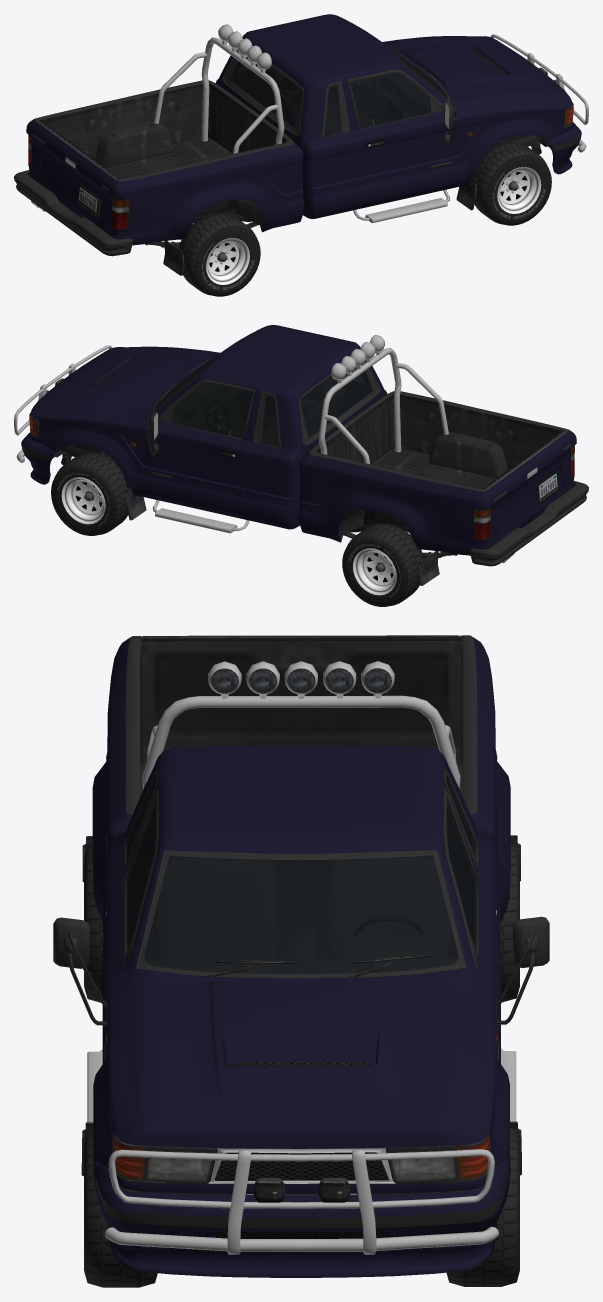
The model's file is lifted85.glb.
3 renders of one model, top to bottom at view 1: azimuth 30°, elevation 25°; view 2: azimuth 150°, elevation 25°; view 3: azimuth 270°, elevation 25°, orthographic. The views are drawn at different scales.
Visible parts, largest first — view 1: krmlgtbdy85_Body_krmlgtbdy85_Bodymat_0, krmlgtbdy85_Bottom_UCB_BOTTOM_0, krmlgtbdy85_Hood_krmlgtbdy85_Bodymat_0, krmlgtbdy85_Interior_UCB_Interiors_1_0, krmlgtbdy85_WheelStock_RR_RO1a_Tire_0, krmlgtbdy85_WheelStock_FR_RO1a_Tire_0, krmlgtbdy85_Trunkdoor_krmlgtbdy85_Bodymat_0, krmlgtbdy85_Extra_A_UCB_BOTTOM_0, krmlgtbdy85_Glass_Passanger_UCB_Lights_and_Glass_Transperent, krmlgtbdy85_Bumper_Rear_UCB_BOTTOM_0, krmlgtbdy85_Lifted_Trim_UCB_BOTTOM_0, krmlgtbdy85_Glass_Rear_UCB_Lights_and_Glass_Transperent_0 (+6 smaller); view 2: krmlgtbdy85_Body_krmlgtbdy85_Bodymat_0, krmlgtbdy85_Bottom_UCB_BOTTOM_0, krmlgtbdy85_Hood_krmlgtbdy85_Bodymat_0, krmlgtbdy85_Interior_UCB_Interiors_1_0, krmlgtbdy85_WheelStock_RL_RO1a_Tire_0, krmlgtbdy85_WheelStock_FL_RO1a_Tire_0, krmlgtbdy85_Trunkdoor_krmlgtbdy85_Bodymat_0, krmlgtbdy85_Extra_A_UCB_BOTTOM_0, krmlgtbdy85_Glass_Driver_UCB_Lights_and_Glass_Transperent_0, krmlgtbdy85_Bumper_Rear_UCB_BOTTOM_0, krmlgtbdy85_Lifted_Trim_UCB_BOTTOM_0, krmlgtbdy85_Glass_Rear_UCB_Lights_and_Glass_Transperent_0 (+6 smaller); view 3: krmlgtbdy85_Body_krmlgtbdy85_Bodymat_0, krmlgtbdy85_Hood_krmlgtbdy85_Bodymat_0, krmlgtbdy85_Interior_UCB_Interiors_1_0, krmlgtbdy85_Windshield_UCB_Lights_and_Glass_Transperent_0, krmlgtbdy85_Trunk_door_inner_UCB_BOTTOM_0, krmlgtbdy85_Bottom_UCB_BOTTOM_0, krmlgtbdy85_Bumper_Front_krmlgtbdy85_Bodymat_0, krmlgtbdy85_Bullbar_UCB_BOTTOM_0, krmlgtbdy85_Extra_A_UCB_BOTTOM_0, krmlgtbdy85_Lifted_Trim_UCB_BOTTOM_0, krmlgtbdy85_Bumper_front_inner_UCB_BOTTOM_0, krmlgtbdy85_Headlights_Glass_UCB_Lights_and_Glass_Transperen (+8 smaller).
Part boxes in pixels (<box>): krmlgtbdy85_Body_krmlgtbdy85_Bodymat_0: <box>26,14,573,245</box>; krmlgtbdy85_Bottom_UCB_BOTTOM_0: <box>28,42,573,230</box>; krmlgtbdy85_Hood_krmlgtbdy85_Bodymat_0: <box>386,38,563,97</box>; krmlgtbdy85_Interior_UCB_Interiors_1_0: <box>231,57,446,135</box>; krmlgtbdy85_WheelStock_RR_RO1a_Tire_0: <box>178,213,260,296</box>; krmlgtbdy85_WheelStock_FR_RO1a_Tire_0: <box>474,142,551,225</box>; krmlgtbdy85_Trunkdoor_krmlgtbdy85_Bodymat_0: <box>30,121,115,233</box>; krmlgtbdy85_Extra_A_UCB_BOTTOM_0: <box>154,24,284,153</box>; krmlgtbdy85_Glass_Passanger_UCB_Lights_and_Glass_Transperent: <box>350,73,430,128</box>; krmlgtbdy85_Bumper_Rear_UCB_BOTTOM_0: <box>14,170,133,256</box>; krmlgtbdy85_Lifted_Trim_UCB_BOTTOM_0: <box>163,101,476,275</box>; krmlgtbdy85_Glass_Rear_UCB_Lights_and_Glass_Transperent_0: <box>230,57,301,127</box>; krmlgtbdy85_Body_krmlgtbdy85_Bodymat_0: <box>29,325,576,555</box>; krmlgtbdy85_Bottom_UCB_BOTTOM_0: <box>29,352,574,563</box>; krmlgtbdy85_Hood_krmlgtbdy85_Bodymat_0: <box>39,349,215,407</box>; krmlgtbdy85_Interior_UCB_Interiors_1_0: <box>157,368,371,446</box>; krmlgtbdy85_WheelStock_RL_RO1a_Tire_0: <box>342,523,423,606</box>; krmlgtbdy85_WheelStock_FL_RO1a_Tire_0: <box>51,452,128,535</box>; krmlgtbdy85_Trunkdoor_krmlgtbdy85_Bodymat_0: <box>487,432,572,543</box>; krmlgtbdy85_Extra_A_UCB_BOTTOM_0: <box>318,335,448,463</box>; krmlgtbdy85_Glass_Driver_UCB_Lights_and_Glass_Transperent_0: <box>172,384,252,438</box>; krmlgtbdy85_Bumper_Rear_UCB_BOTTOM_0: <box>469,481,588,566</box>; krmlgtbdy85_Lifted_Trim_UCB_BOTTOM_0: <box>125,411,439,585</box>; krmlgtbdy85_Glass_Rear_UCB_Lights_and_Glass_Transperent_0: <box>301,367,372,437</box>; krmlgtbdy85_Body_krmlgtbdy85_Bodymat_0: <box>92,637,510,1193</box>; krmlgtbdy85_Hood_krmlgtbdy85_Bodymat_0: <box>160,978,442,1148</box>; krmlgtbdy85_Interior_UCB_Interiors_1_0: <box>129,782,473,973</box>; krmlgtbdy85_Windshield_UCB_Lights_and_Glass_Transperent_0: <box>144,855,458,973</box>; krmlgtbdy85_Trunk_door_inner_UCB_BOTTOM_0: <box>141,635,461,747</box>; krmlgtbdy85_Bottom_UCB_BOTTOM_0: <box>104,635,499,1195</box>; krmlgtbdy85_Bumper_Front_krmlgtbdy85_Bodymat_0: <box>92,1155,510,1277</box>; krmlgtbdy85_Bullbar_UCB_BOTTOM_0: <box>104,1149,498,1254</box>; krmlgtbdy85_Extra_A_UCB_BOTTOM_0: <box>142,661,460,788</box>; krmlgtbdy85_Lifted_Trim_UCB_BOTTOM_0: <box>53,835,549,1176</box>; krmlgtbdy85_Bumper_front_inner_UCB_BOTTOM_0: <box>95,1176,508,1238</box>; krmlgtbdy85_Headlights_Glass_UCB_Lights_and_Glass_Transperen: <box>113,1136,490,1182</box>.
Size of the model in its own units: 4.93 by 1.92 by 2.14.
Materials: 7 (6 with a texture image).
